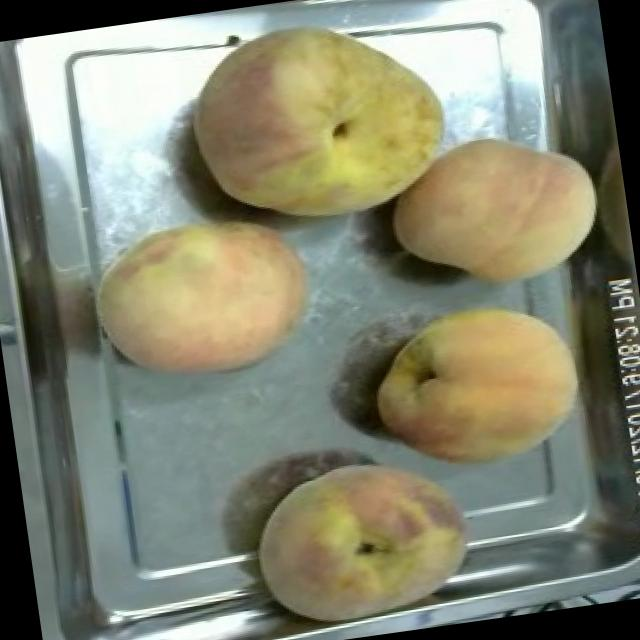Fruit: (168, 0, 467, 250), (78, 193, 332, 401), (351, 280, 598, 492), (234, 437, 488, 640), (373, 111, 620, 312)
